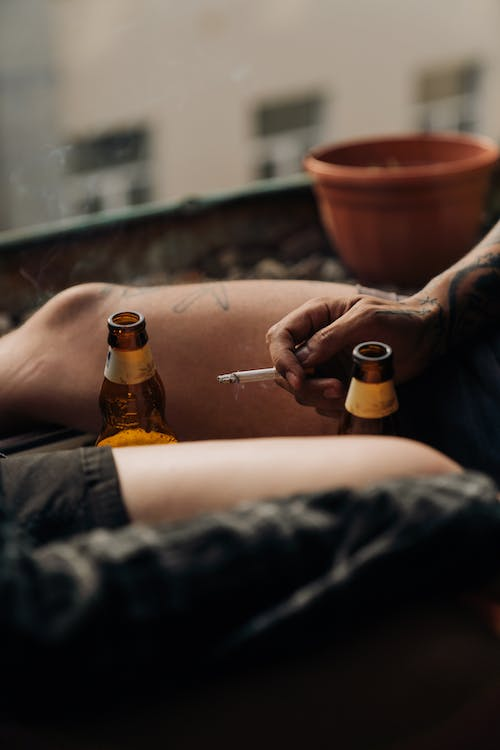alcohol: (86, 308, 178, 444), (336, 338, 401, 435)
cigarette: (208, 361, 286, 390)
